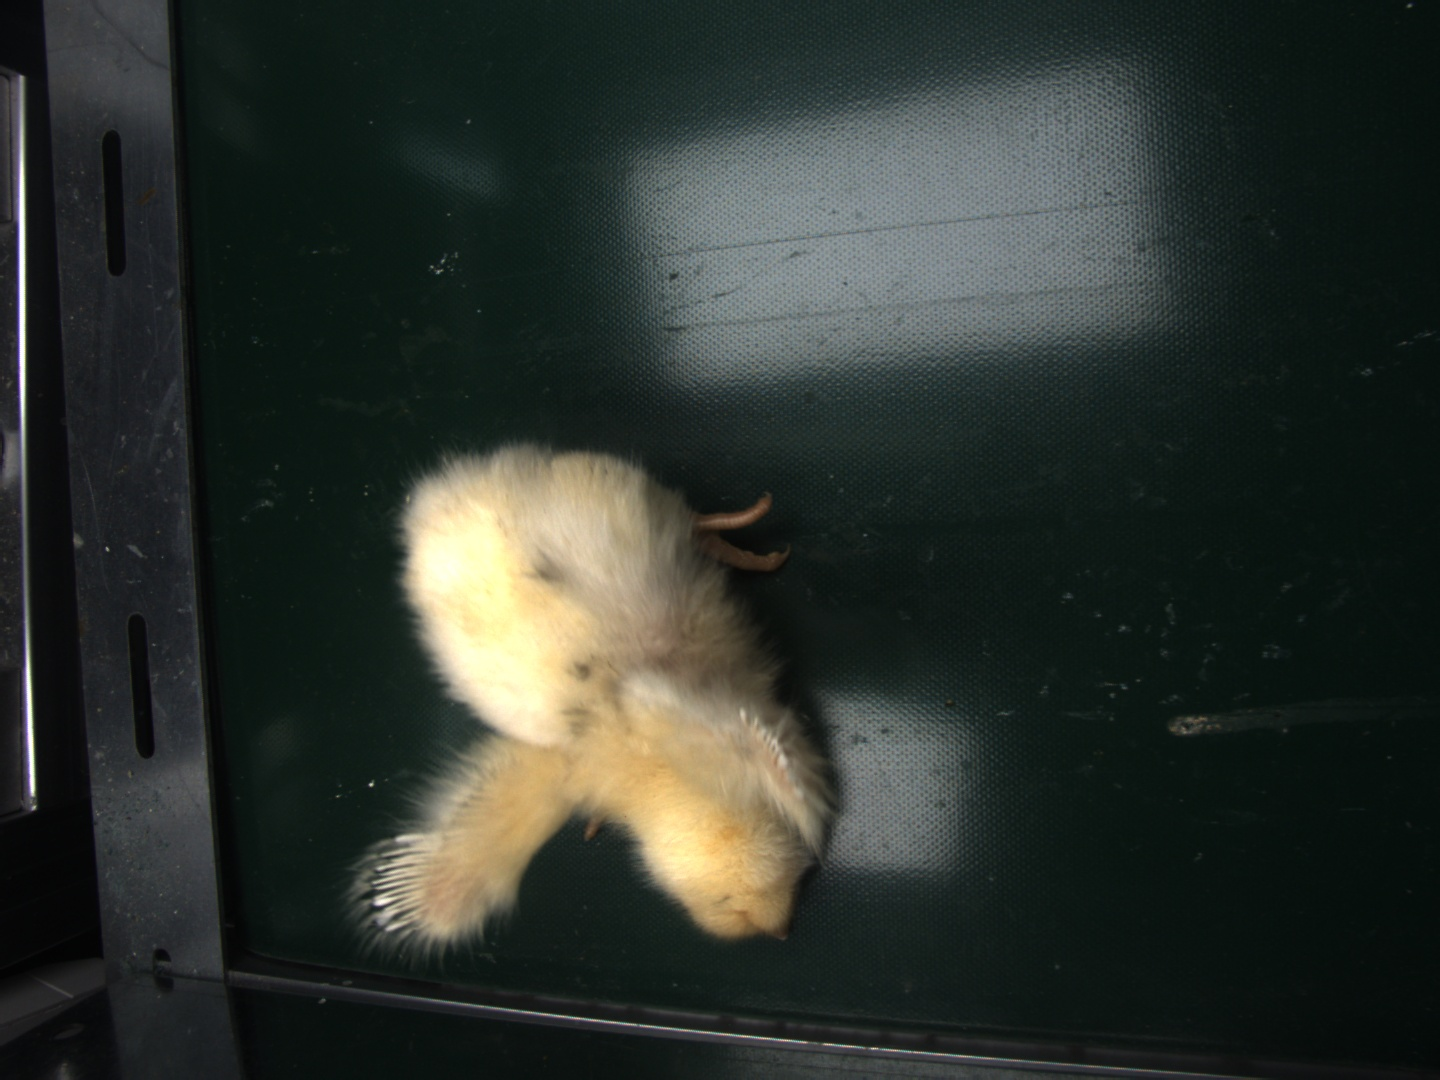male: (371, 837, 431, 933)
